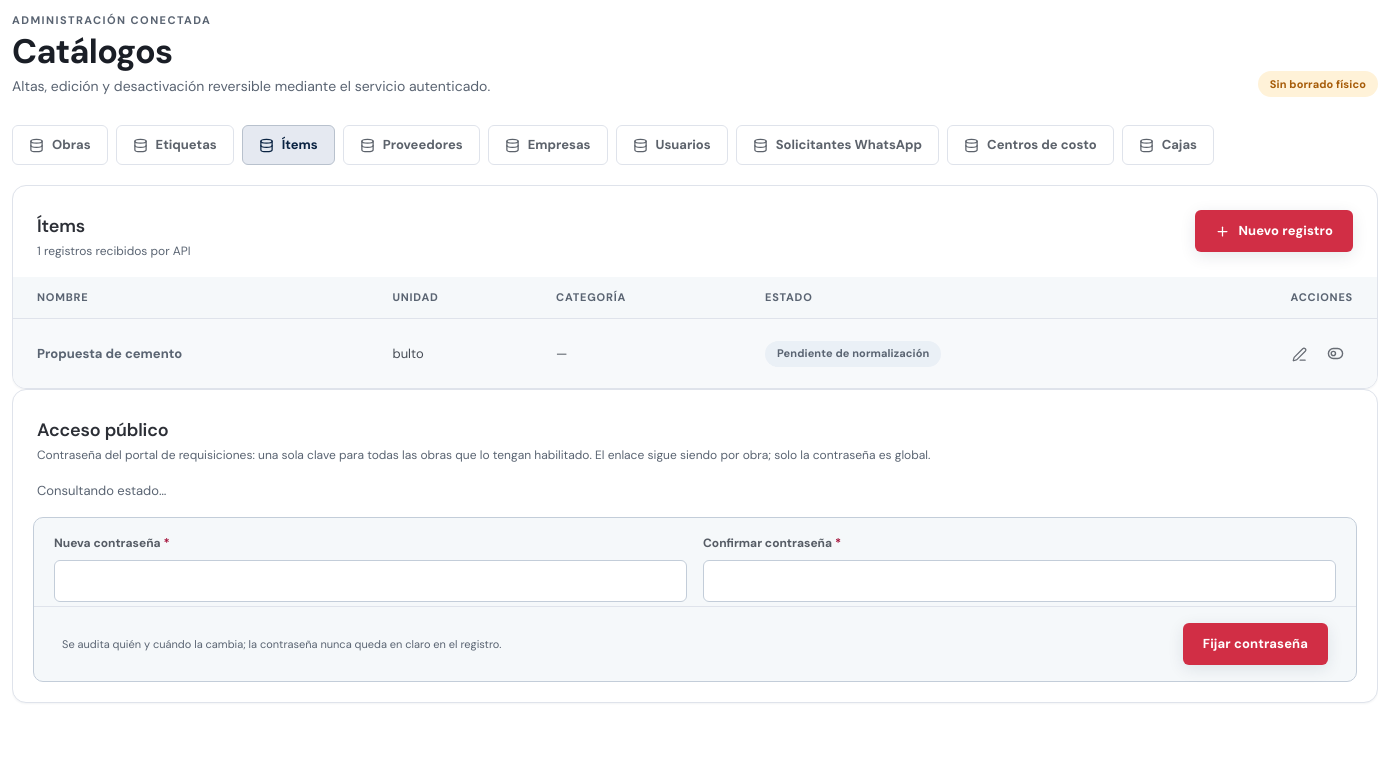
Scenario: ConnectedCatalogAdmin › normalizes a pending proposal through reversible activation
The width and height of the screenshot is (1378, 780).
Expected: the text "Pendiente de normalización" is shown, [765,341,941,367]
Step 1. Click the button named "Normalizar Propuesta de cemento" → (1335, 353), box [1317,335,1353,371]
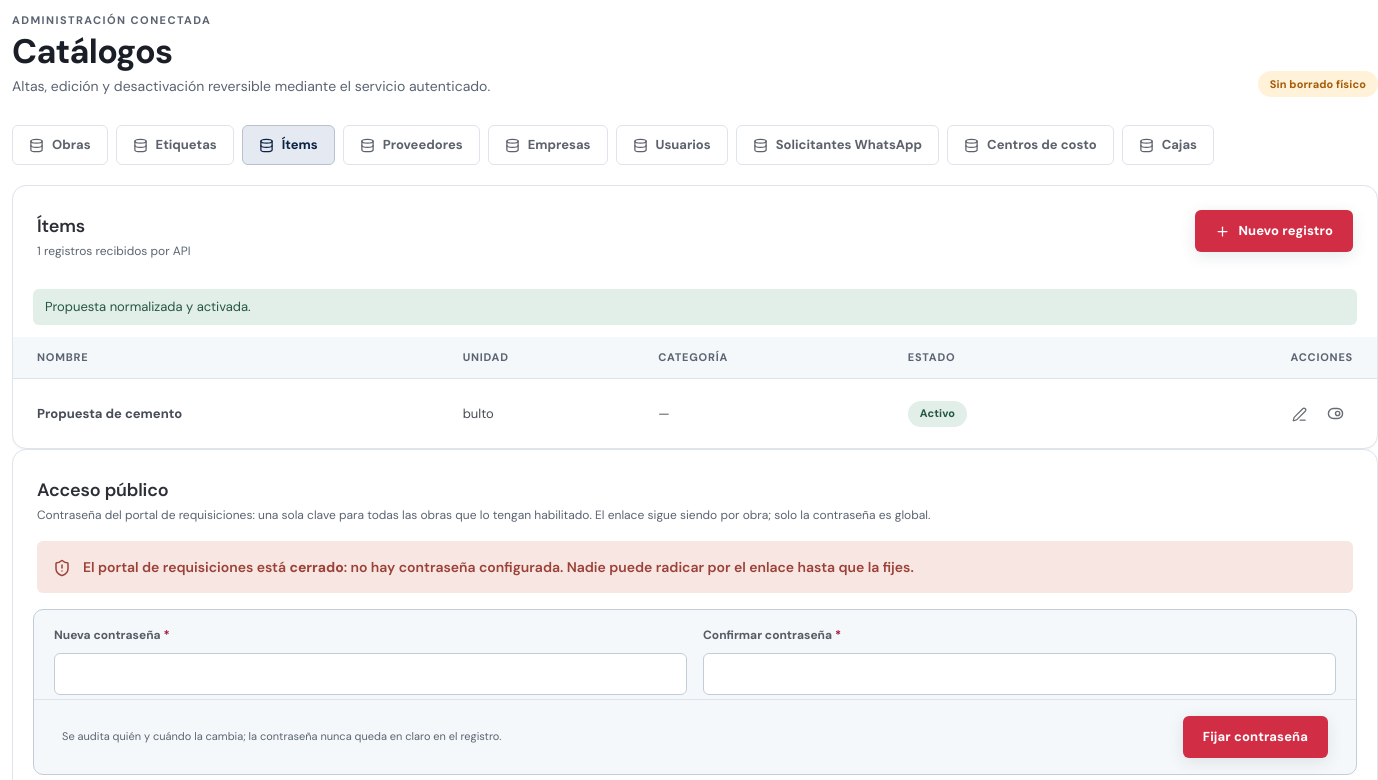
Result: the message "Propuesta normalizada y activada." is shown at [33,289,1357,325]
